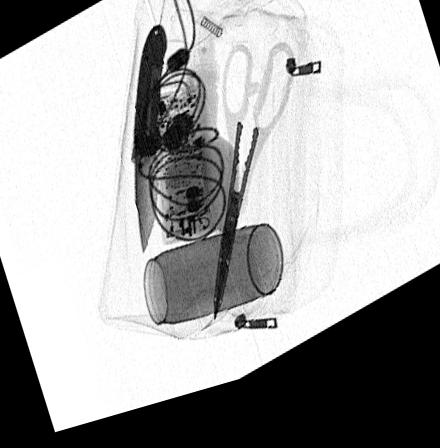Knife: (134, 32, 166, 263)
Scissors: (212, 53, 294, 333)
